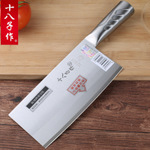knief: (17, 7, 137, 142)
